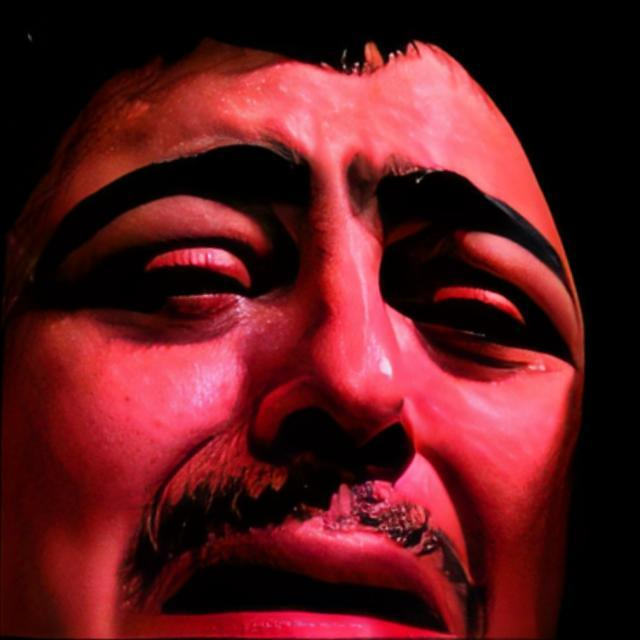sad: (4, 35, 594, 640)
